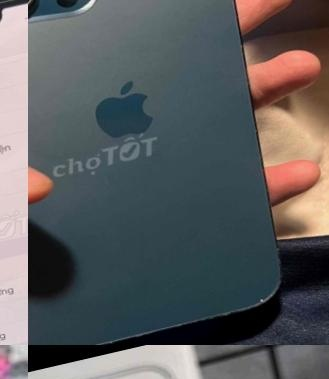scratch: (28, 247, 299, 345)
